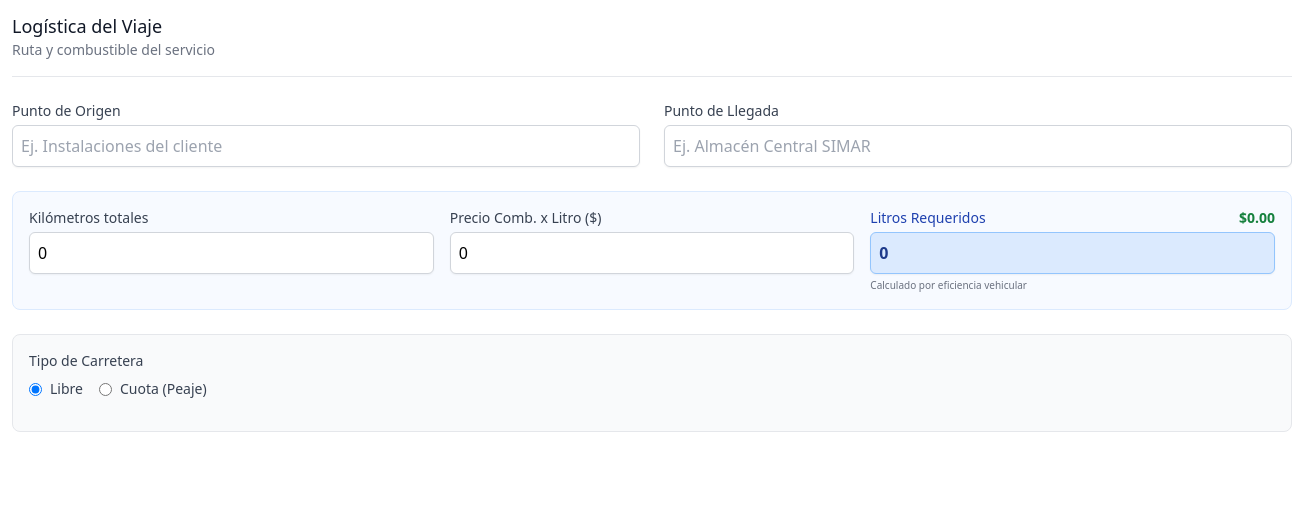
Scenario: TripStep Component › renders toll inputs when the toll road option is selected
Step 1. Click the radio button labelled "Cuota (Peaje)" → (106,389), box [99, 382, 112, 396]
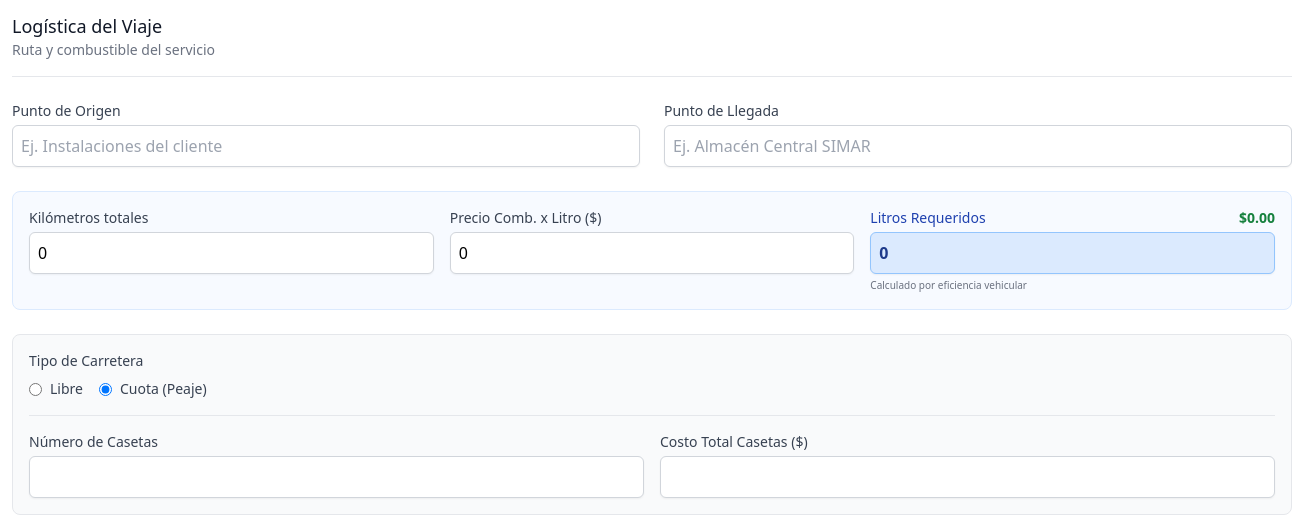
Expected: the text "Número de Casetas" is shown, [29, 432, 158, 451]
Expected: the text "Costo Total Casetas ($)" is shown, [660, 432, 808, 451]
